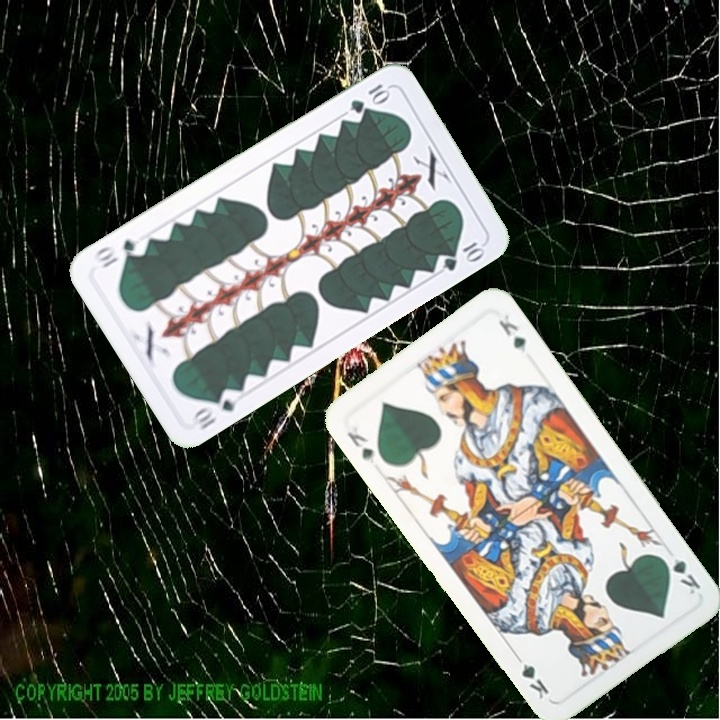G10: (189, 384, 244, 432), (346, 79, 393, 116)
GK: (656, 551, 704, 597), (343, 422, 379, 467)
